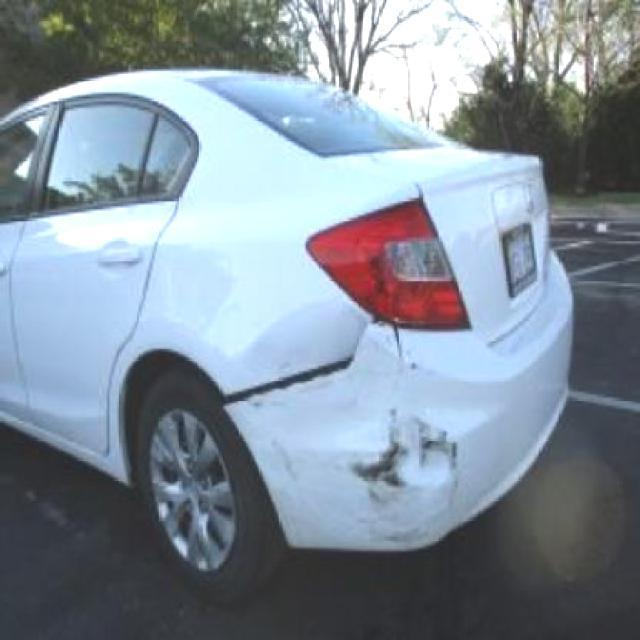minor: (218, 297, 403, 414), (368, 526, 448, 554), (268, 442, 297, 492)
moderate: (354, 412, 457, 492)
